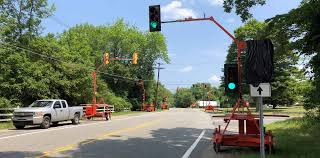signal: (225, 64, 239, 93), (148, 5, 161, 32)
